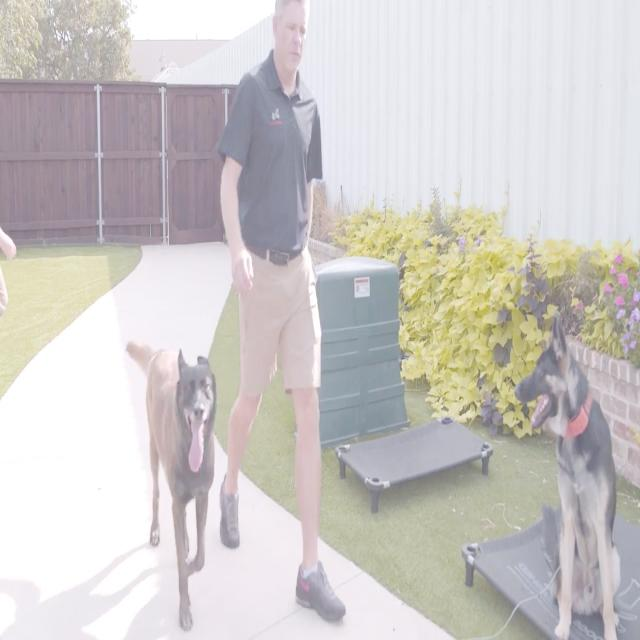Dog: (515, 316, 619, 640)
Unleashed_Dog: (126, 342, 279, 630)
